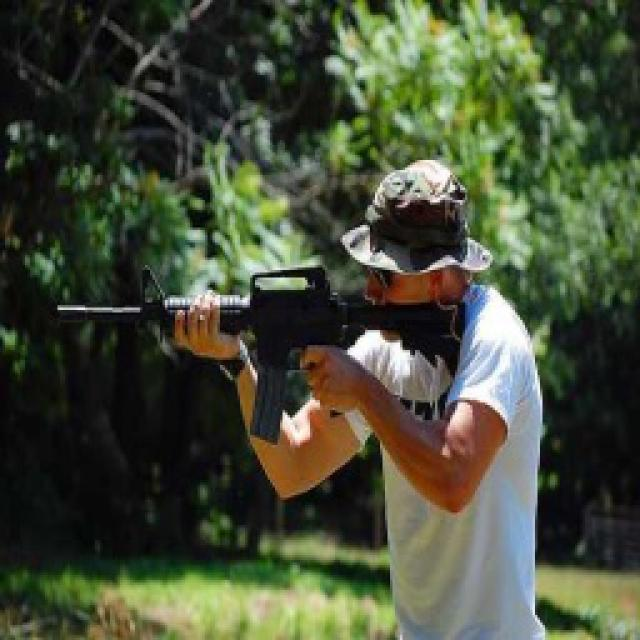long weapon: (56, 255, 468, 412)
